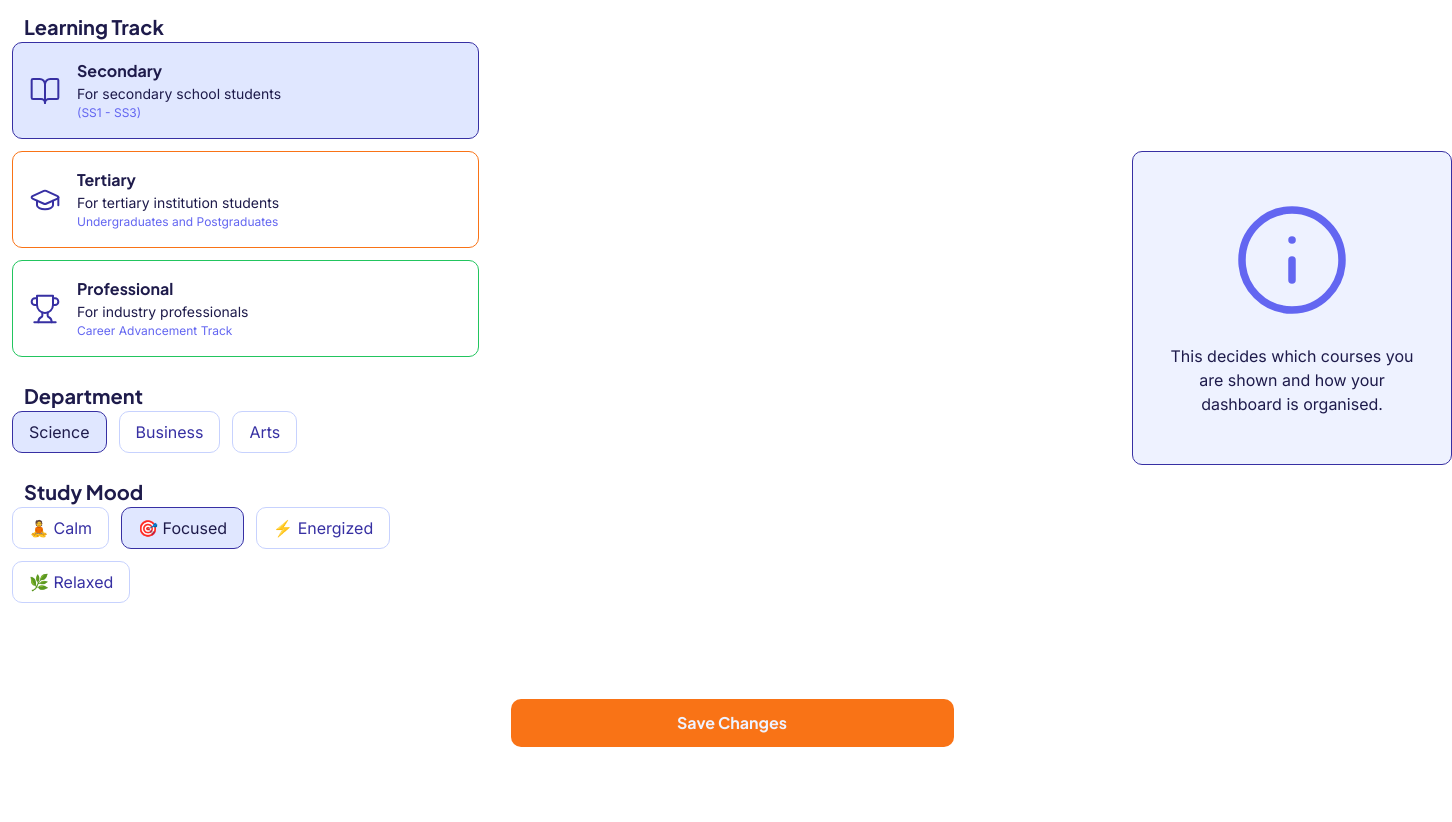
LearningPreferencesForm — switching track › swaps in that track's departments
Click the button "Tertiary".
click(246, 200)  # box [12,151,479,248]
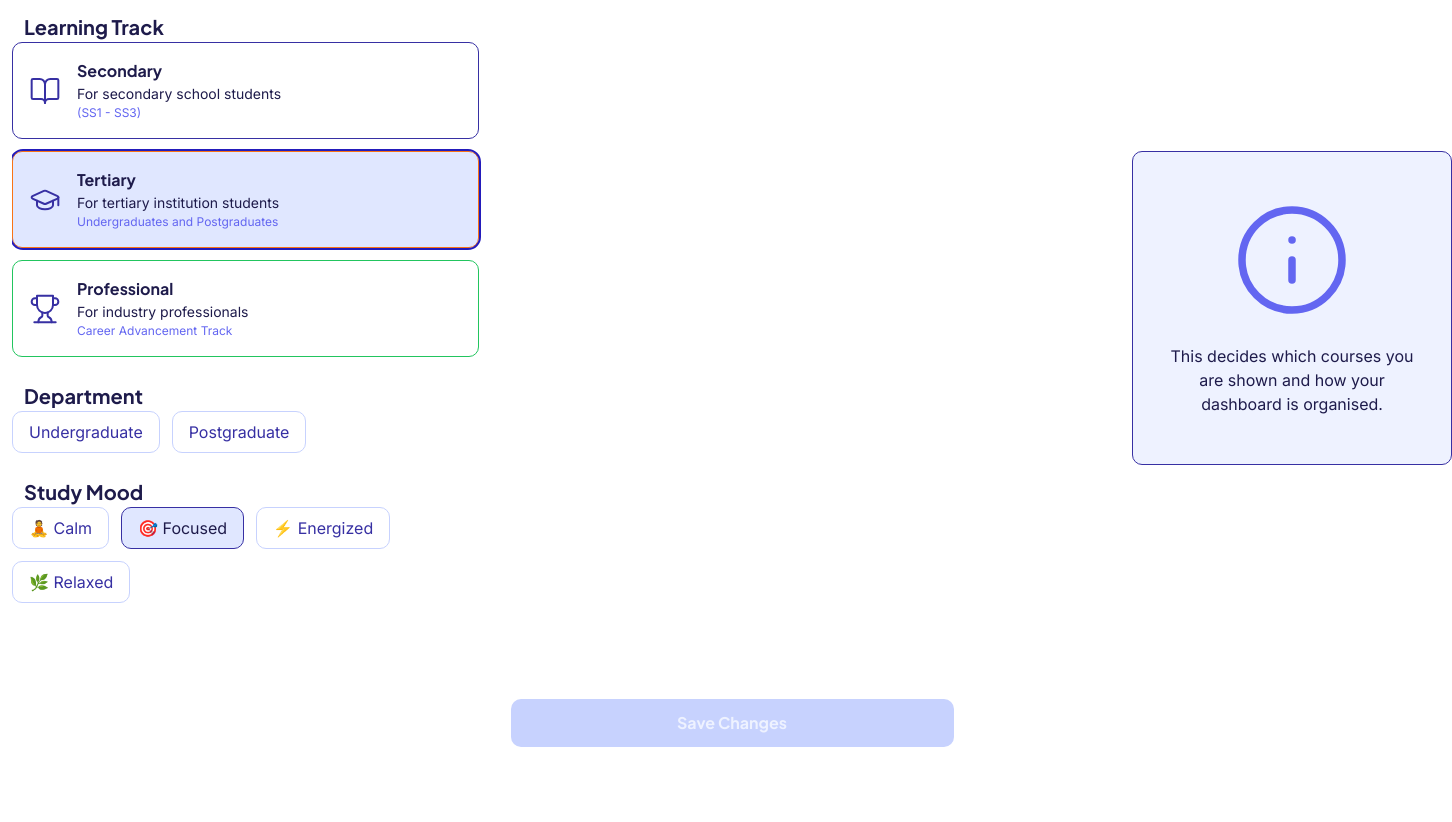
Now the button "Undergraduate" is shown, box [12,411,160,453]
Now the button "Science" is gone
